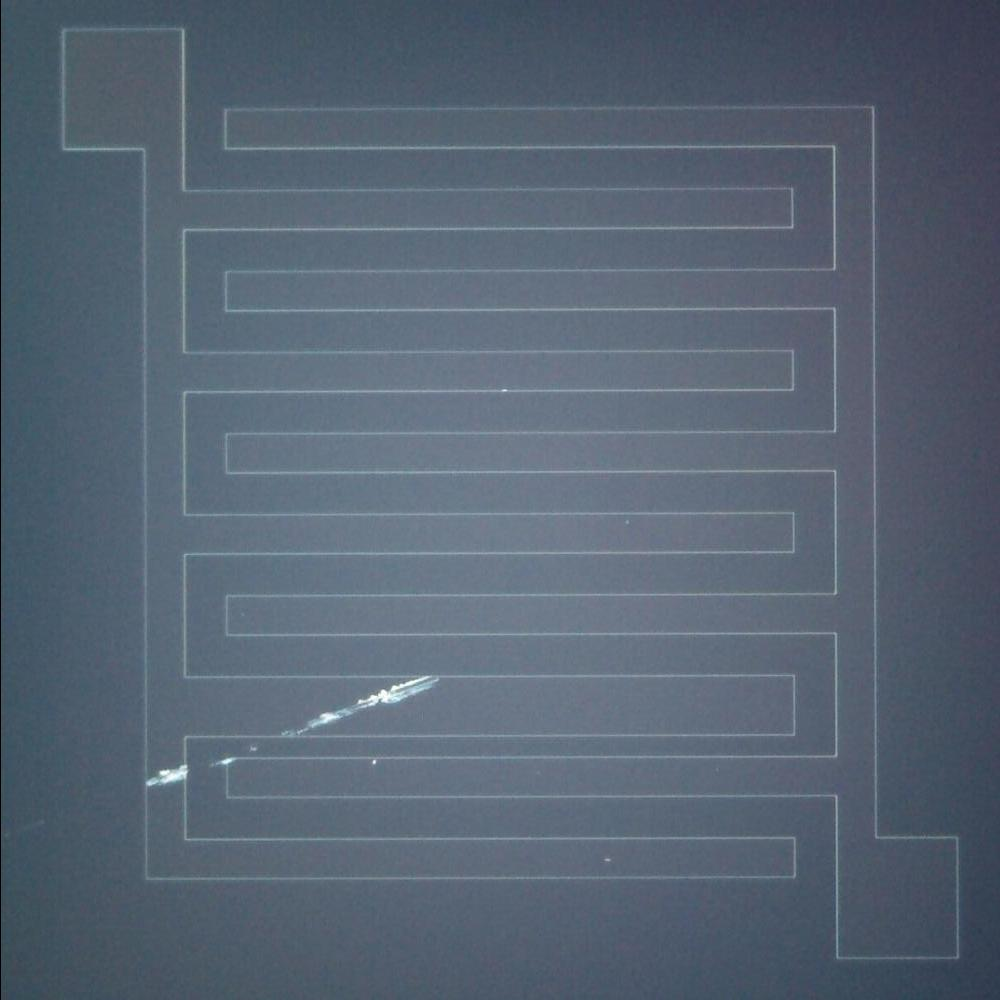dot: (361, 749, 386, 774)
fat circuit: (169, 669, 808, 742)
scratch: (291, 671, 444, 735), (146, 763, 190, 792)
